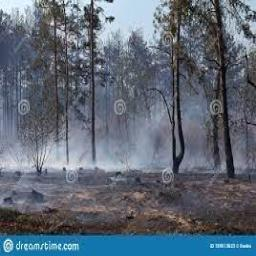Low smoke: (0, 98, 256, 168)
